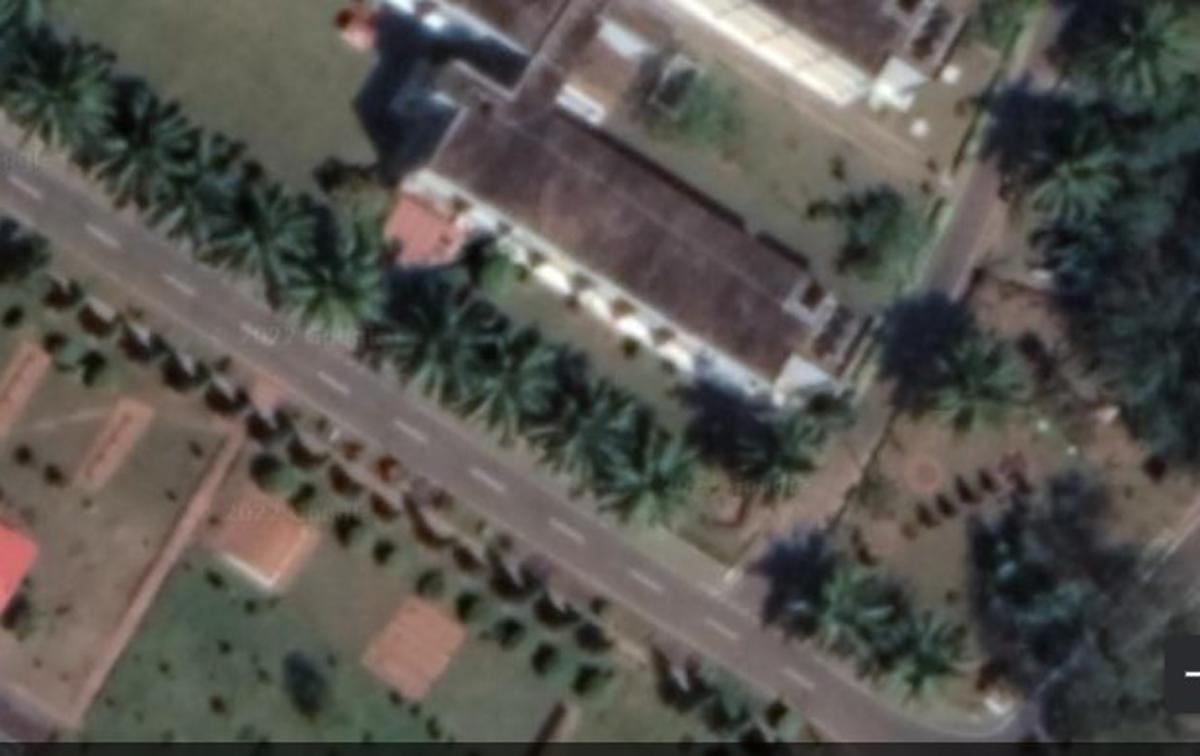coconut: (375, 268, 477, 403), (284, 200, 383, 329), (1, 33, 111, 148), (91, 87, 194, 206), (543, 378, 640, 502), (1090, 3, 1200, 99), (919, 327, 1026, 424), (714, 405, 816, 502), (224, 177, 311, 290), (1020, 122, 1114, 226), (794, 565, 876, 668), (471, 327, 551, 430), (880, 609, 960, 693), (625, 424, 689, 522)
